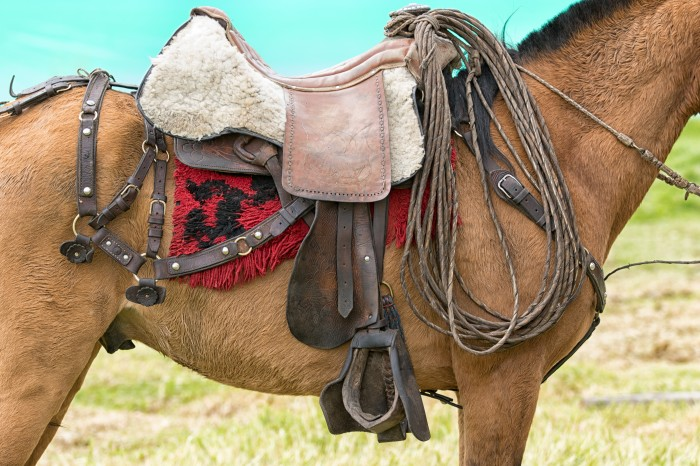saddle: (152, 3, 467, 353)
